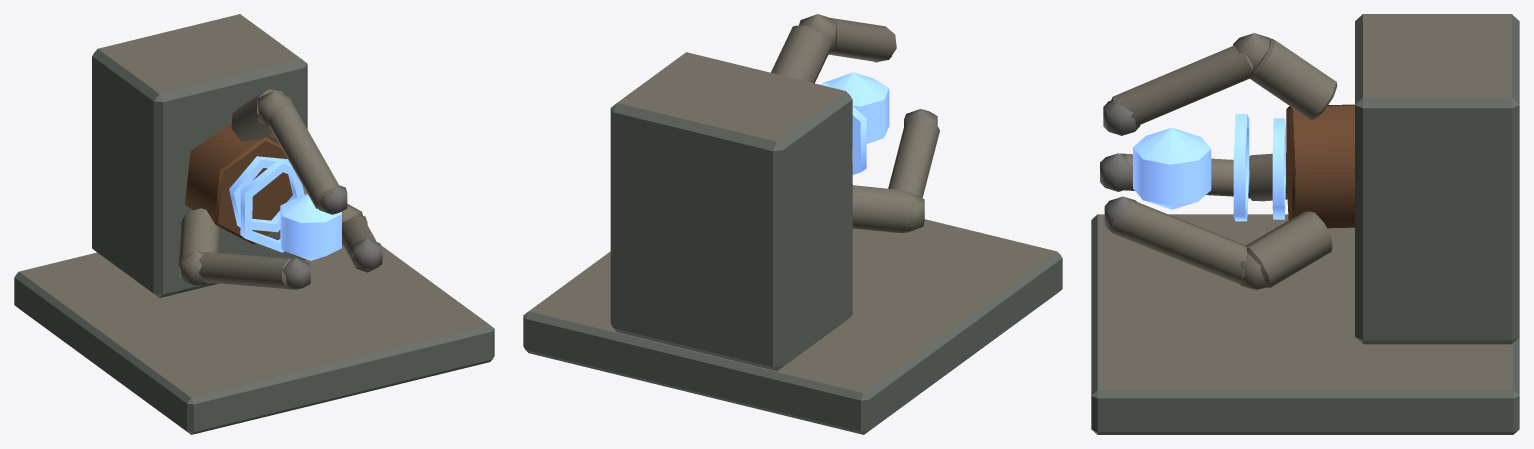
The model's file is R4X_DirectionalEMP_LOD1.fbx.
3 views of the same model, side by side, from view 1: azimuth 30°, elevation 25°; view 2: azimuth 150°, elevation 25°; view 3: azimuth 270°, elevation 25° (orthographic). The views are drawn at different scales.
Visible parts, largest first — view 1: R4X_DirectionalEMP_LOD1; view 2: R4X_DirectionalEMP_LOD1; view 3: R4X_DirectionalEMP_LOD1.
Boxes of the visible parts, bbox=[...] form: R4X_DirectionalEMP_LOD1: bbox=[14, 14, 494, 434]; R4X_DirectionalEMP_LOD1: bbox=[523, 14, 1062, 434]; R4X_DirectionalEMP_LOD1: bbox=[1091, 14, 1519, 434].
Size of the model in its own units: 0.52 by 0.42 by 0.52.
